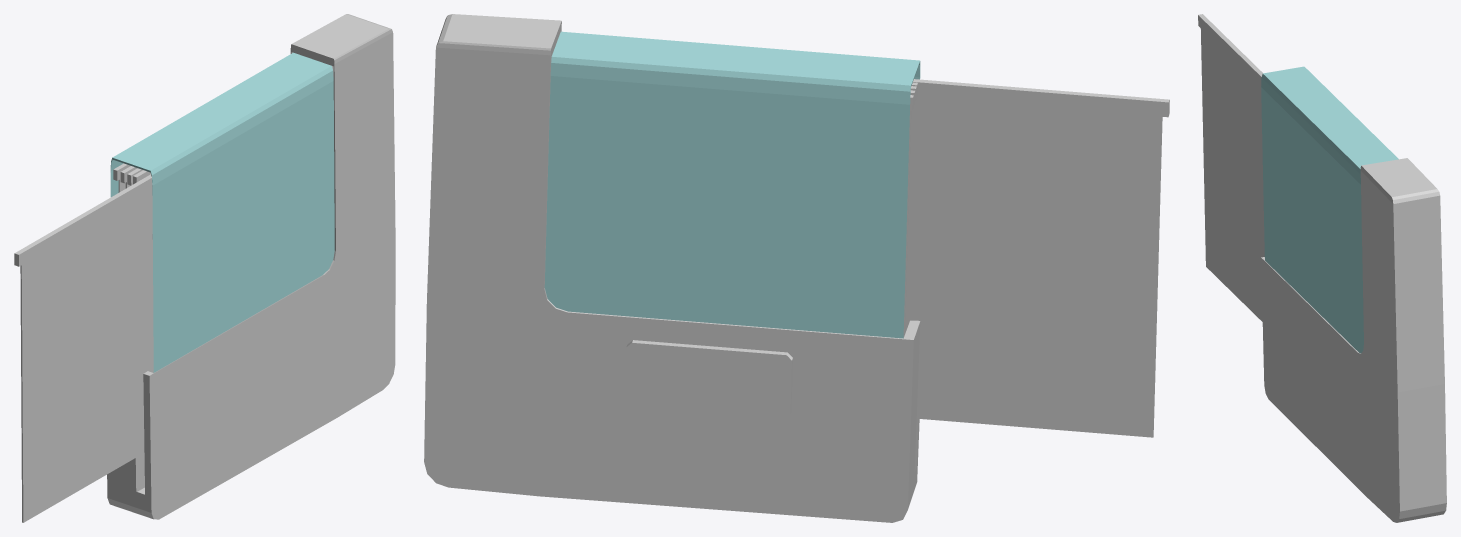
3 views of the same model, side by side, from view 1: azimuth 30°, elevation 25°; view 2: azimuth 150°, elevation 25°; view 3: azimuth 270°, elevation 25° (orthographic). The views are drawn at different scales.
Visible parts, largest first — view 1: 立方体.029, 立方体.028, 立方体.027; view 2: 立方体.029, 立方体.028, 立方体.027; view 3: 立方体.029, 立方体.028, 立方体.027.
Part boxes in pixels (x1,y1,x2,y2): 立方体.029: (107, 14, 395, 519); 立方体.028: (110, 52, 334, 372); 立方体.027: (14, 174, 153, 522); 立方体.029: (424, 14, 920, 522); 立方体.028: (544, 31, 920, 338); 立方体.027: (905, 79, 1169, 437); 立方体.029: (1261, 158, 1446, 522); 立方体.028: (1261, 66, 1398, 353); 立方体.027: (1198, 14, 1264, 321).
Bounding box in the file's own units: 143 × 103 × 69.36.
